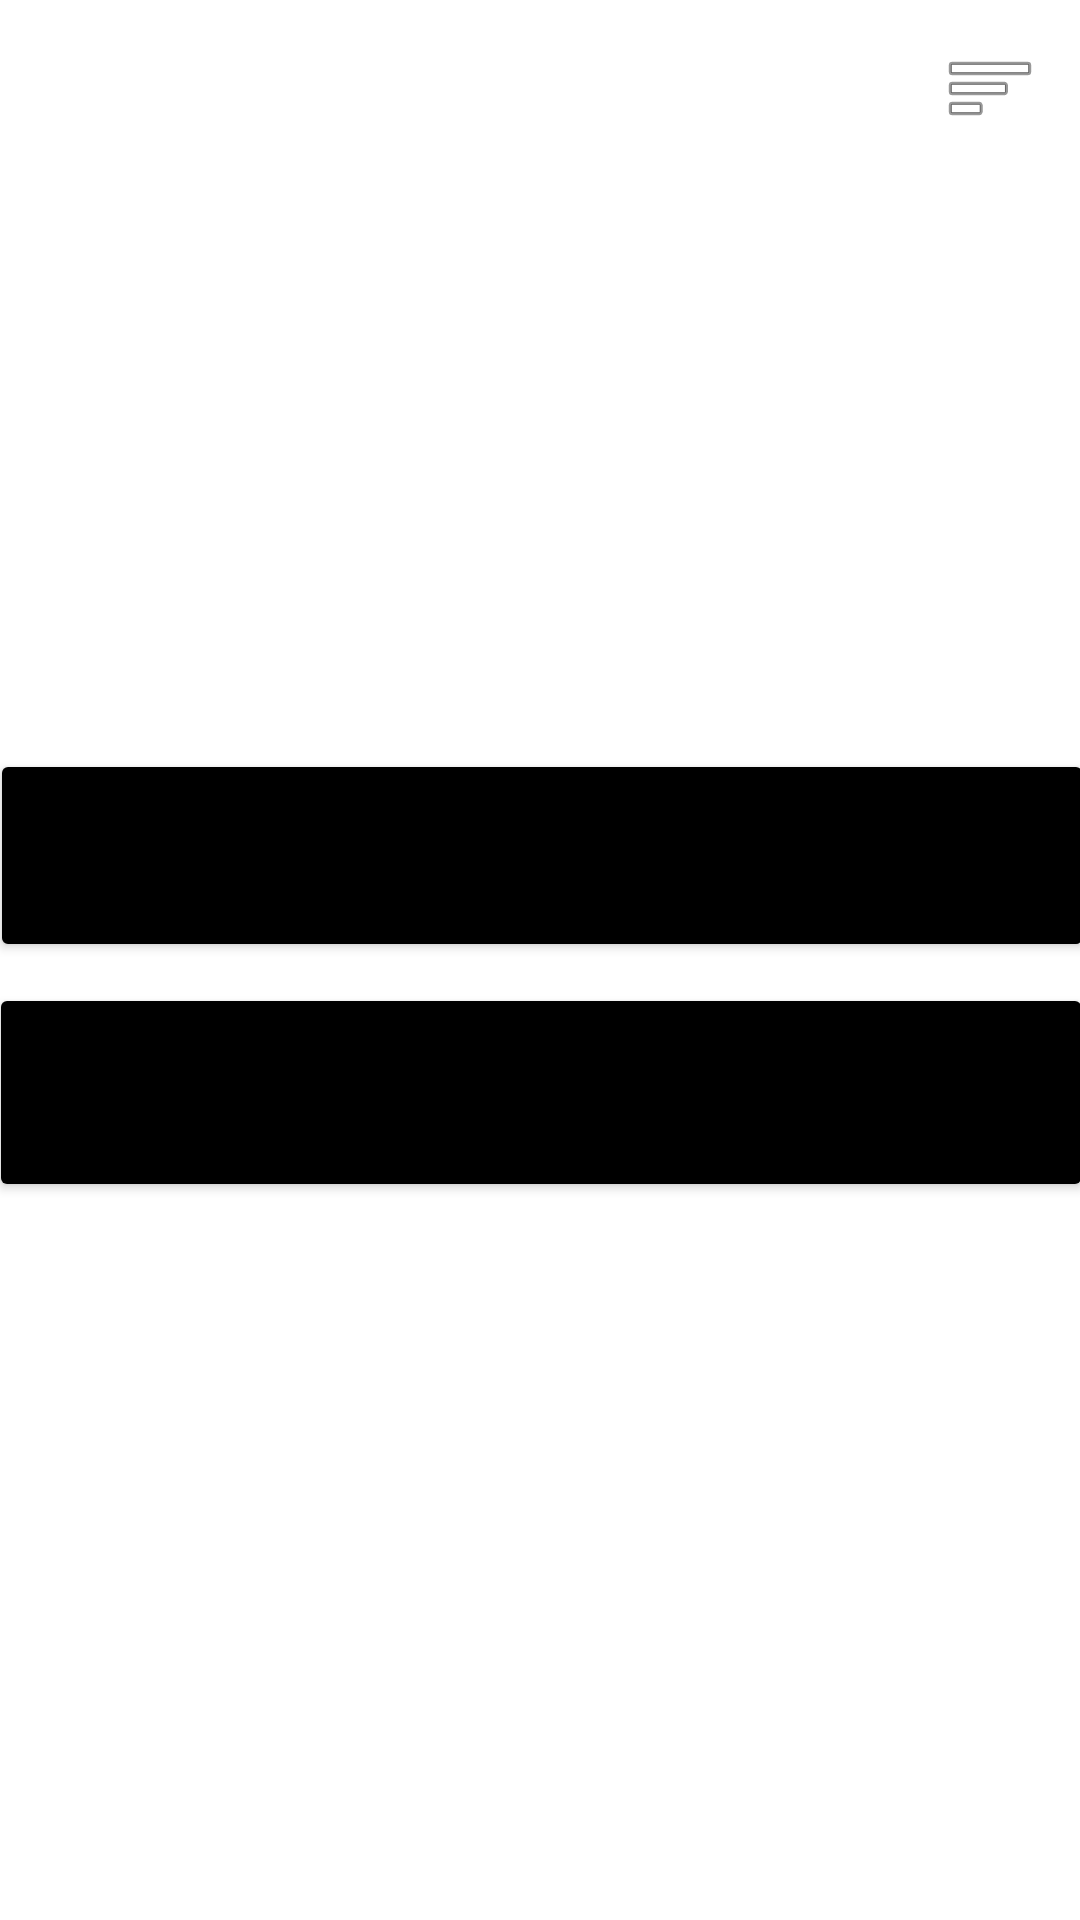

Where icons sit on this 1080px×1920px app screen, as (x1, y1, x2, y2):
sort by size: (949, 62, 1031, 115)
